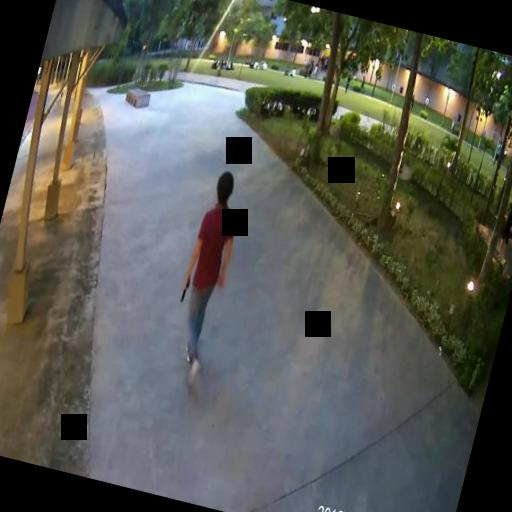Handgun: (178, 274, 190, 302)
